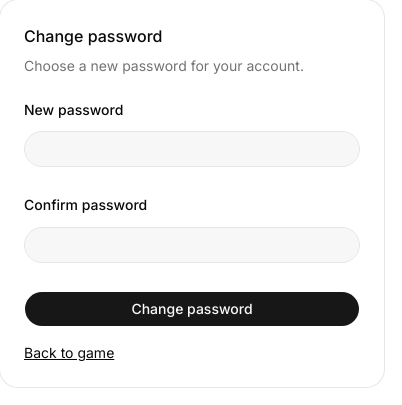
Test: password management › updates the signed-in account without asking for the old password
This screenshot has width=402, height=405.
Type "new-password" into the password field labelled "New password" at (192, 149), box [24,131,360,167]
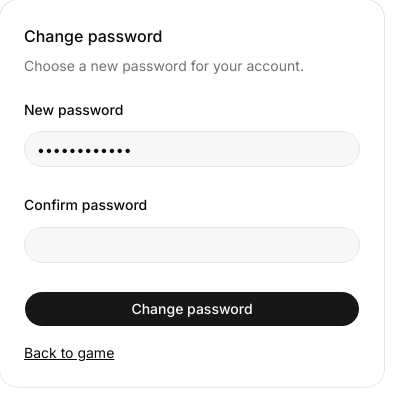
Type "new-password" into the password field labelled "Confirm password" at (192, 244), box [24,226,360,262]
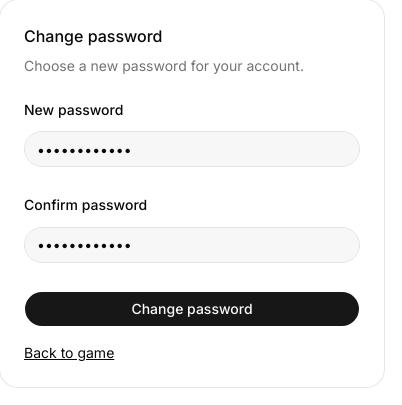
Submit the form, box [24,100,360,326]
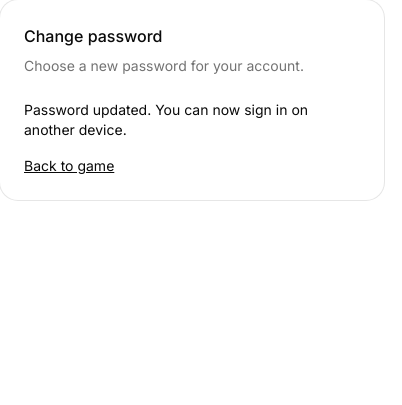
Expected: the text "Password updated. You can now sign in on another device." is shown, [24,101,308,138]
